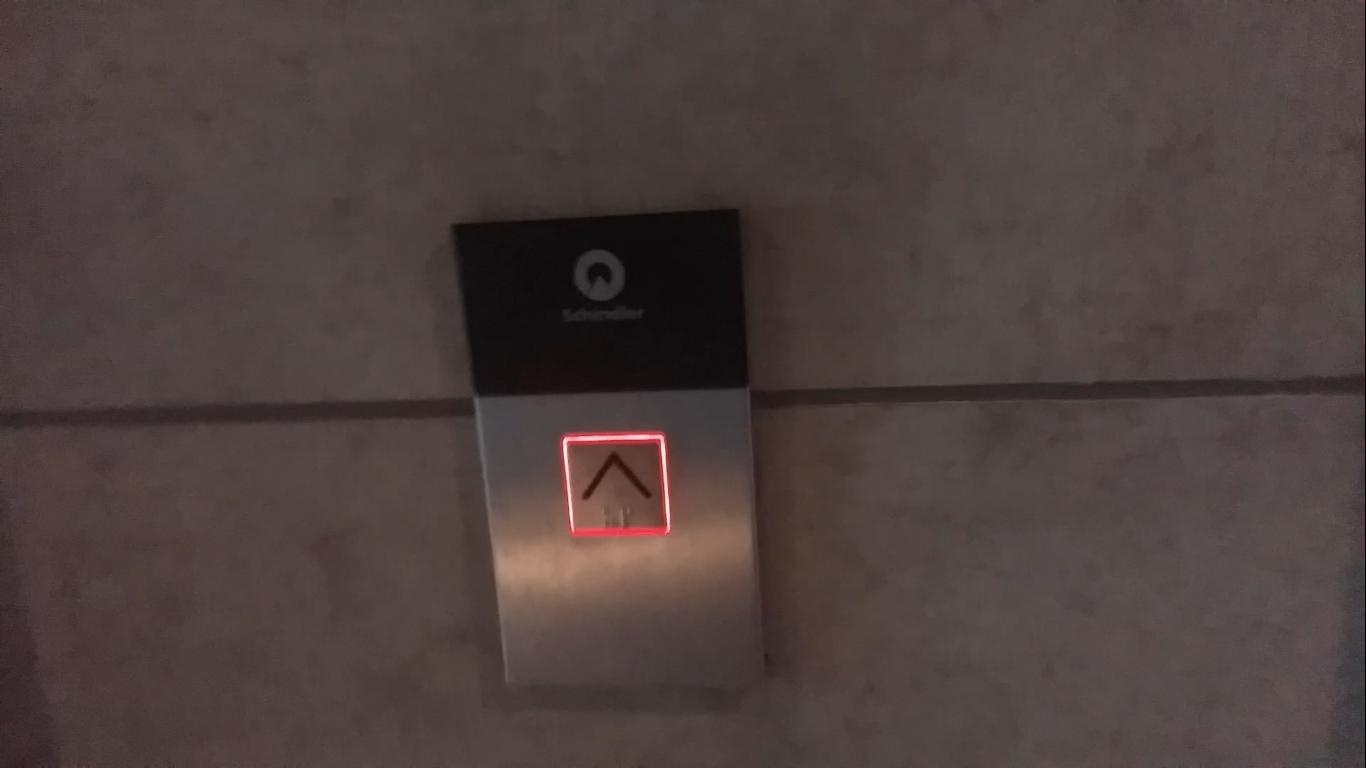up: (556, 429, 679, 540)
